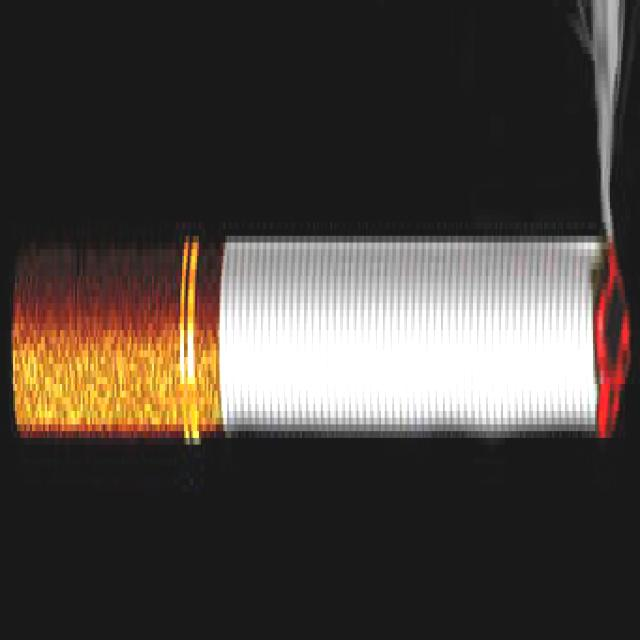smoke: (14, 244, 630, 474)
